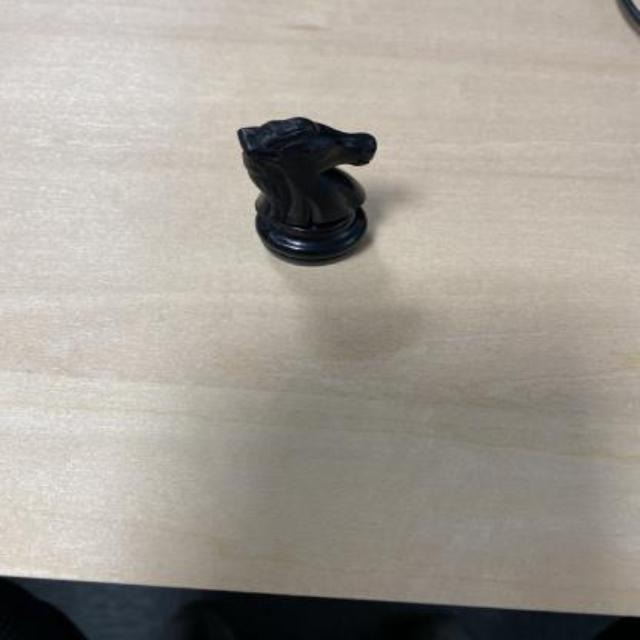black-knight: (236, 115, 379, 268)
